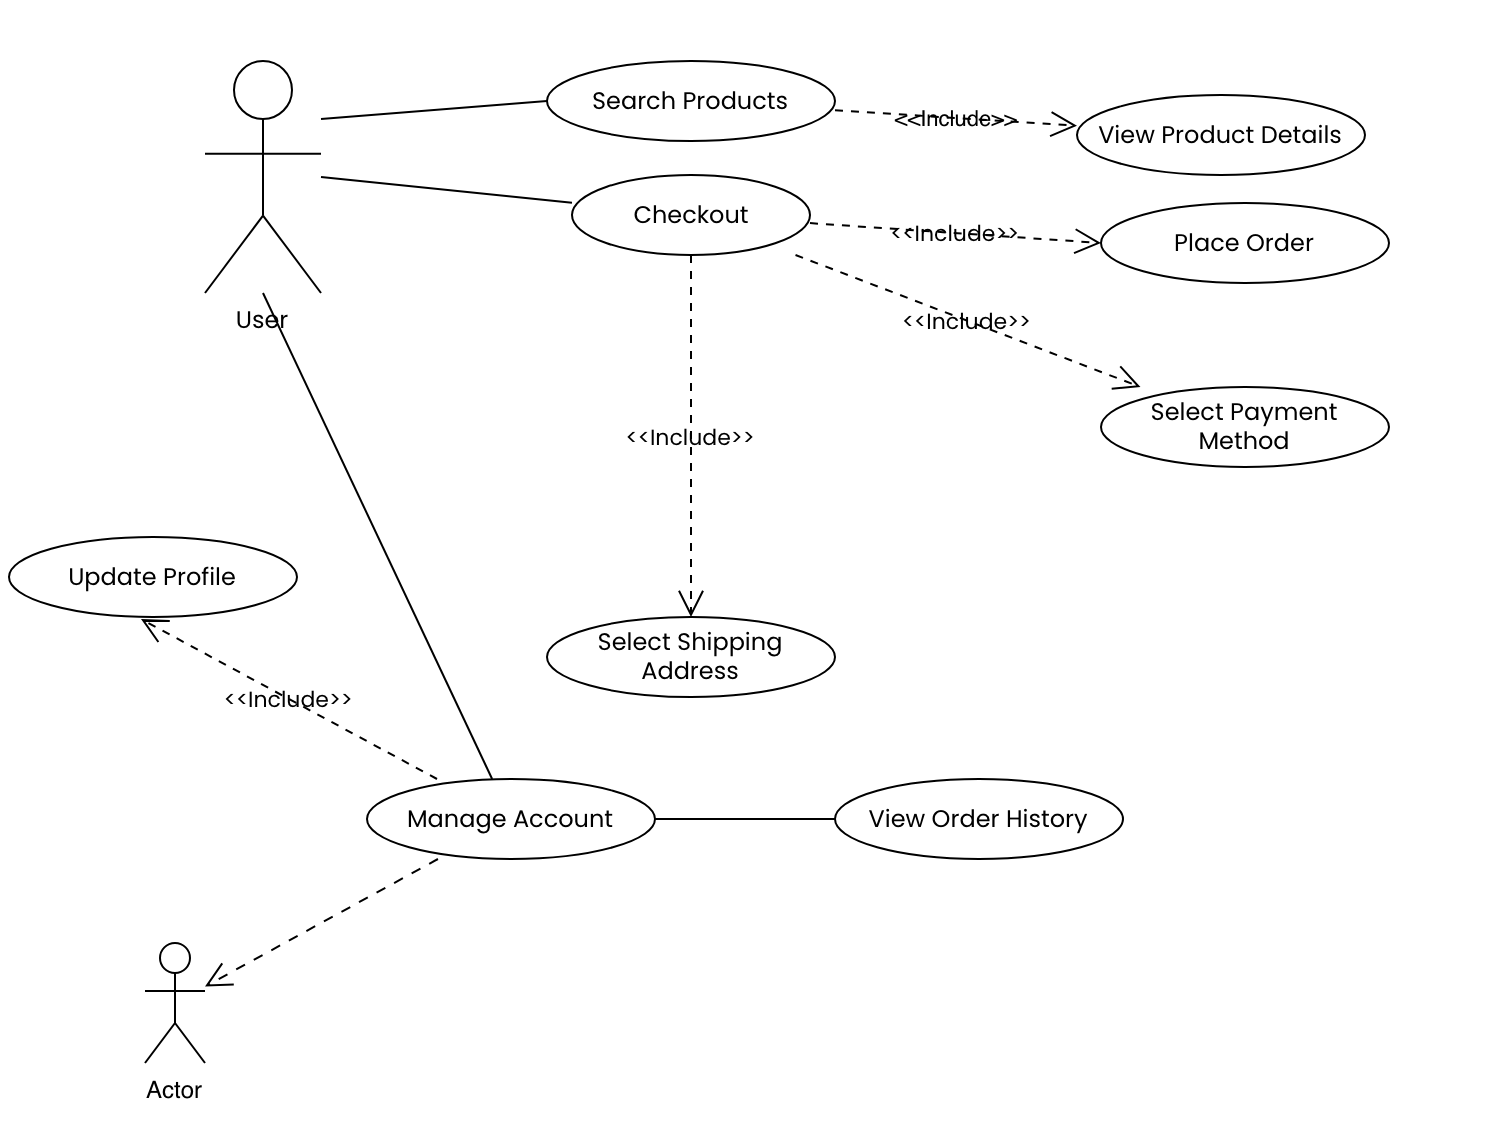actor: (201, 57, 325, 301), (141, 940, 211, 1068)
association: (264, 301, 494, 778), (138, 614, 438, 780), (795, 251, 1142, 392), (207, 854, 443, 992), (812, 217, 1100, 258), (677, 259, 709, 616), (836, 100, 1076, 141), (320, 174, 571, 210), (318, 100, 544, 123), (659, 808, 832, 829)
text: (1146, 398, 1342, 455), (596, 629, 787, 685), (866, 801, 1091, 839), (1094, 118, 1347, 150), (401, 803, 624, 837), (587, 86, 794, 119), (64, 557, 247, 594), (1166, 222, 1321, 264), (630, 196, 753, 232), (623, 420, 758, 453), (904, 305, 1033, 338), (223, 684, 357, 715), (891, 107, 1019, 136), (890, 219, 1018, 245), (143, 1076, 211, 1105), (232, 306, 295, 335)
use_case: (5, 532, 300, 621), (363, 774, 659, 863), (832, 774, 1127, 863), (1074, 92, 1368, 180), (1098, 199, 1391, 288), (544, 57, 836, 145), (543, 613, 838, 700), (1098, 384, 1393, 471), (569, 170, 813, 260)
